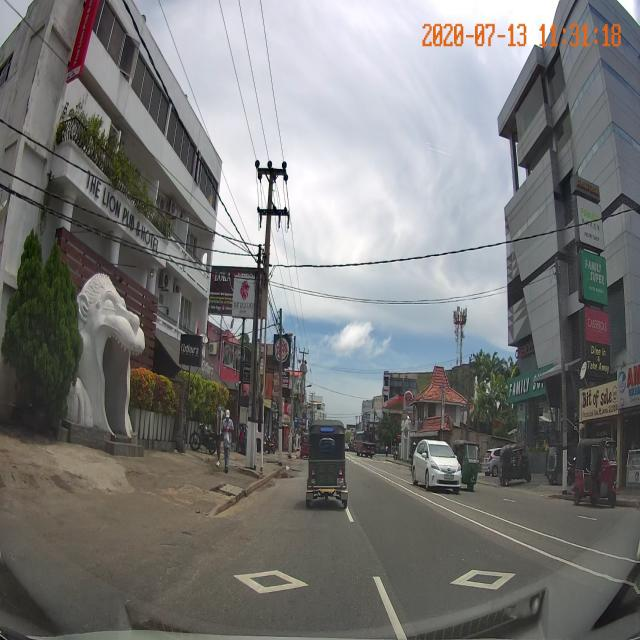diamond: (152, 548, 409, 640)
